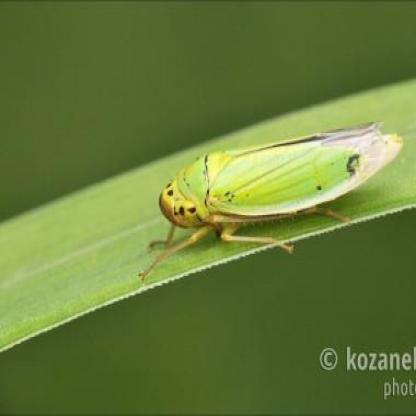Green-Leafhopper: (138, 114, 410, 281)
